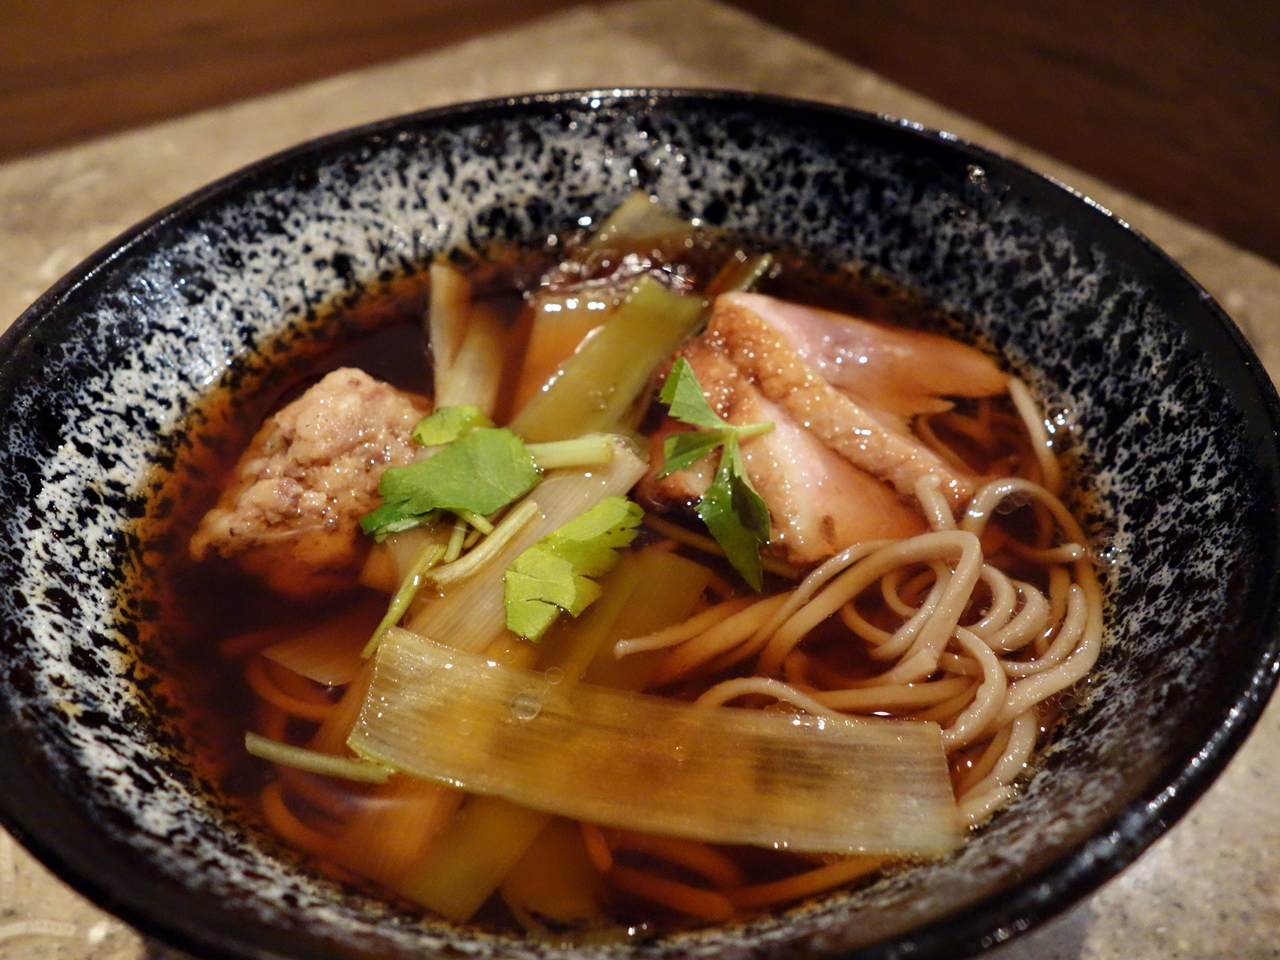Soba: (642, 534, 1152, 865)
